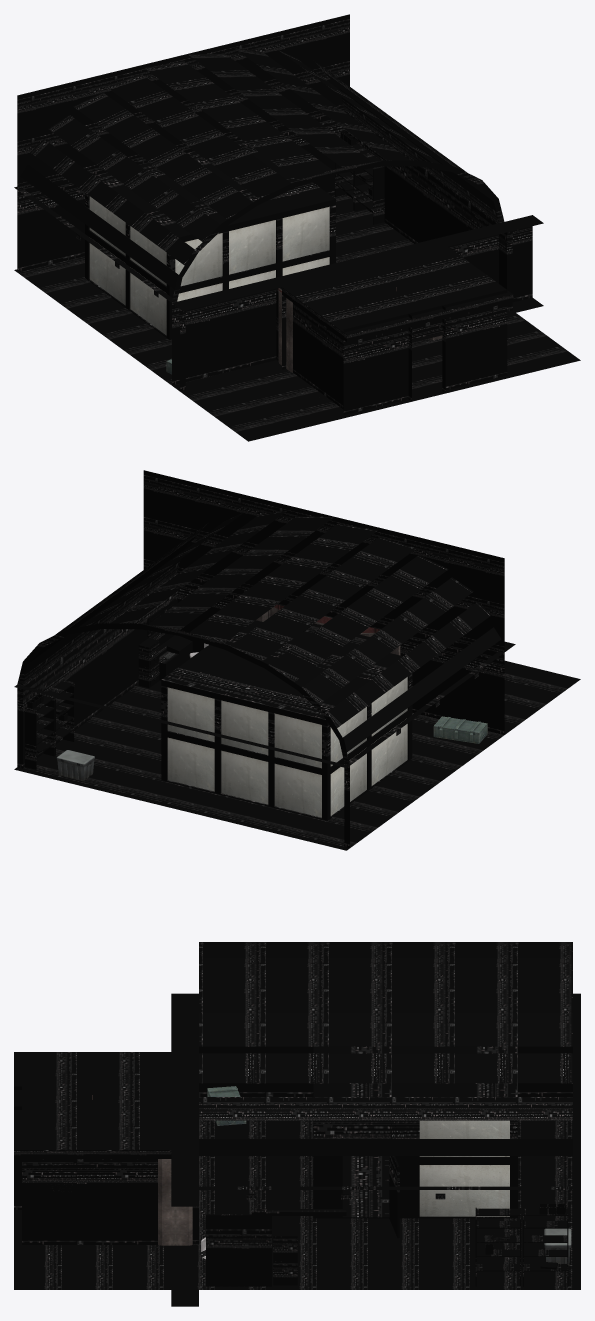
The model's file is roompj_opt.obj.
3 views of the same model, one above another, from view 1: azimuth 30°, elevation 25°; view 2: azimuth 150°, elevation 25°; view 3: azimuth 270°, elevation 25° (orthographic). The views are drawn at different scales.
Bounding box in the file's own units: 2048 × 961 × 2304.
